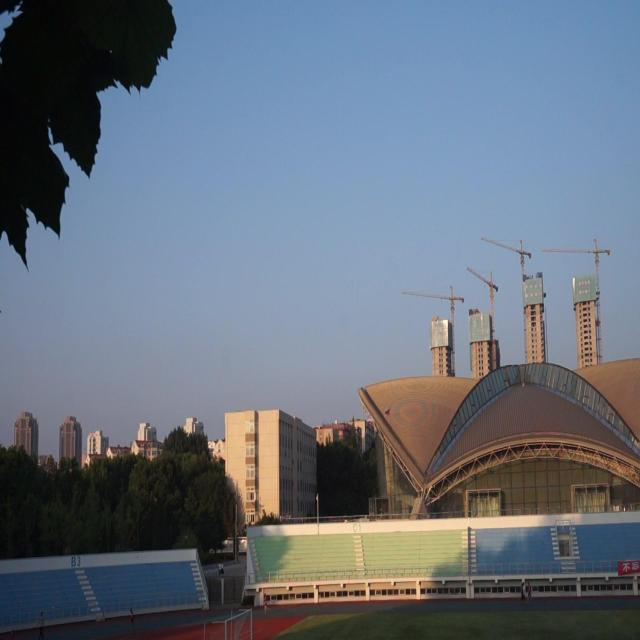drone: (384, 405, 392, 416)
